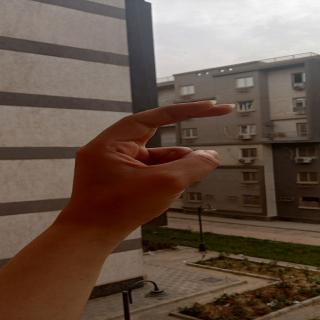ZAY: (63, 89, 265, 222)
